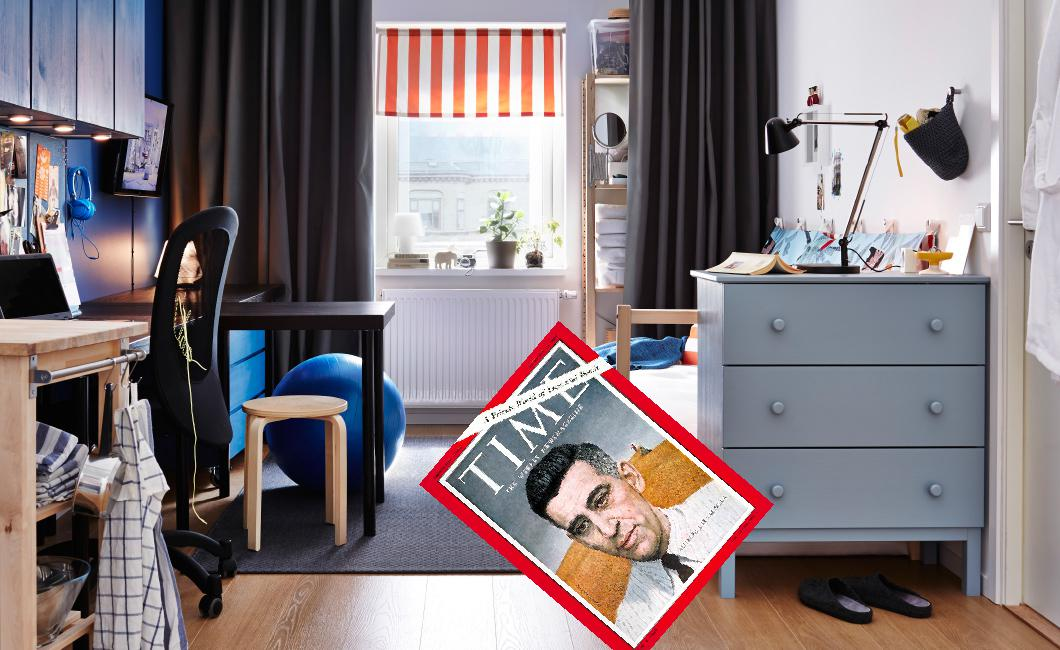times: (416, 319, 771, 650)
